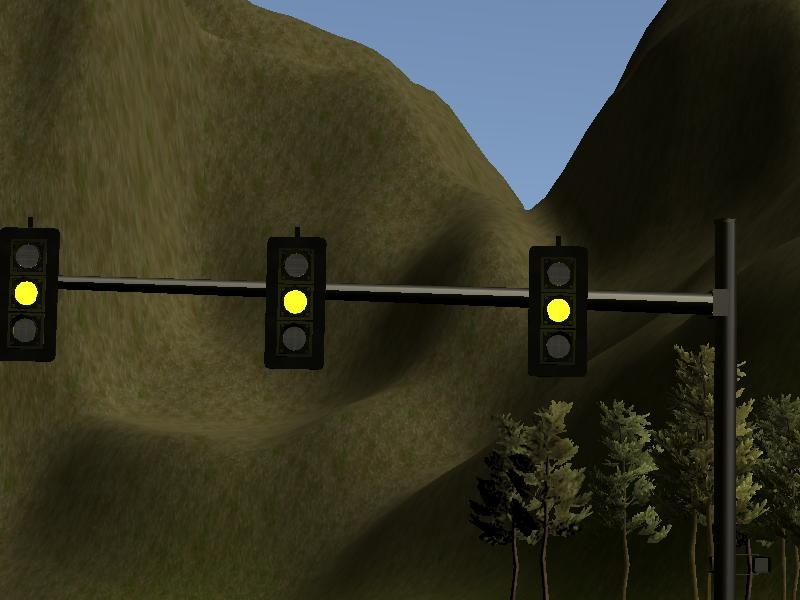YELLOW: (525, 243, 591, 381), (1, 223, 62, 364), (266, 235, 327, 370)
